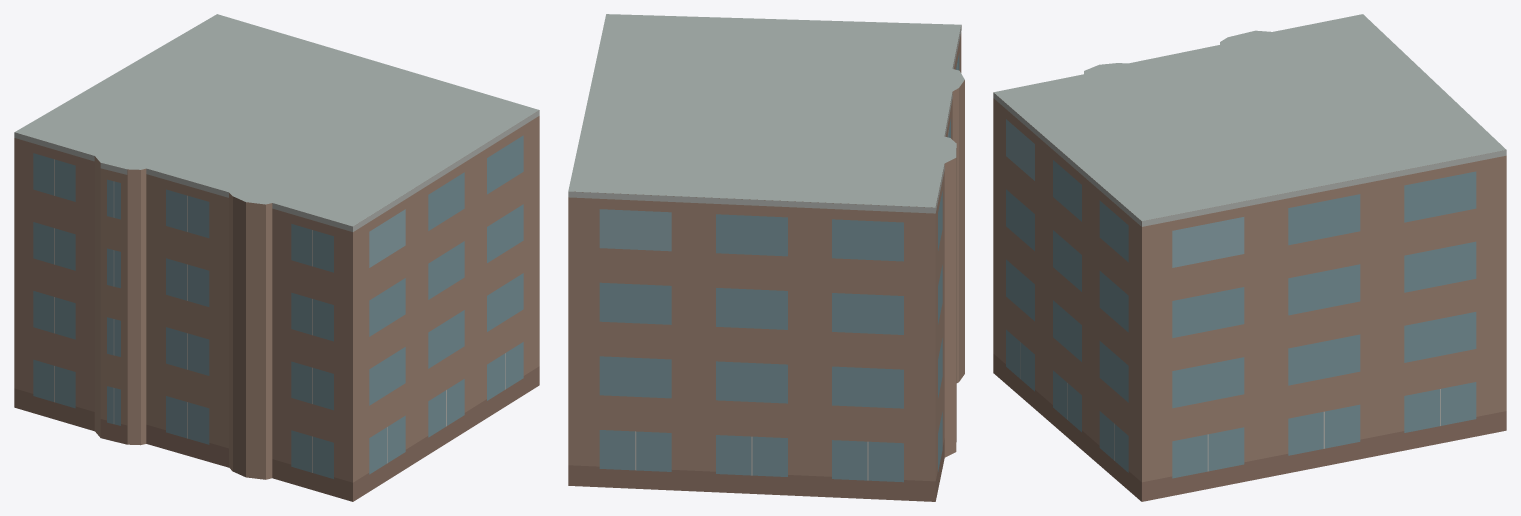
File: survey-upis-32778809.glb
The picture shows the model from 3 angles, left to right: view 1: azimuth 30°, elevation 25°; view 2: azimuth 150°, elevation 25°; view 3: azimuth 270°, elevation 25°; orthographic projection. The views are drawn at different scales.
Parts seen in each view (by area): view 1: survey-upis-32778809.tmp; view 2: survey-upis-32778809.tmp; view 3: survey-upis-32778809.tmp.
Part boxes in pixels (x1,y1,x2,y2): survey-upis-32778809.tmp: (14, 14, 539, 501); survey-upis-32778809.tmp: (568, 14, 964, 501); survey-upis-32778809.tmp: (993, 14, 1506, 501).
Size of the model in its own units: 19.01 by 12 by 19.9.
